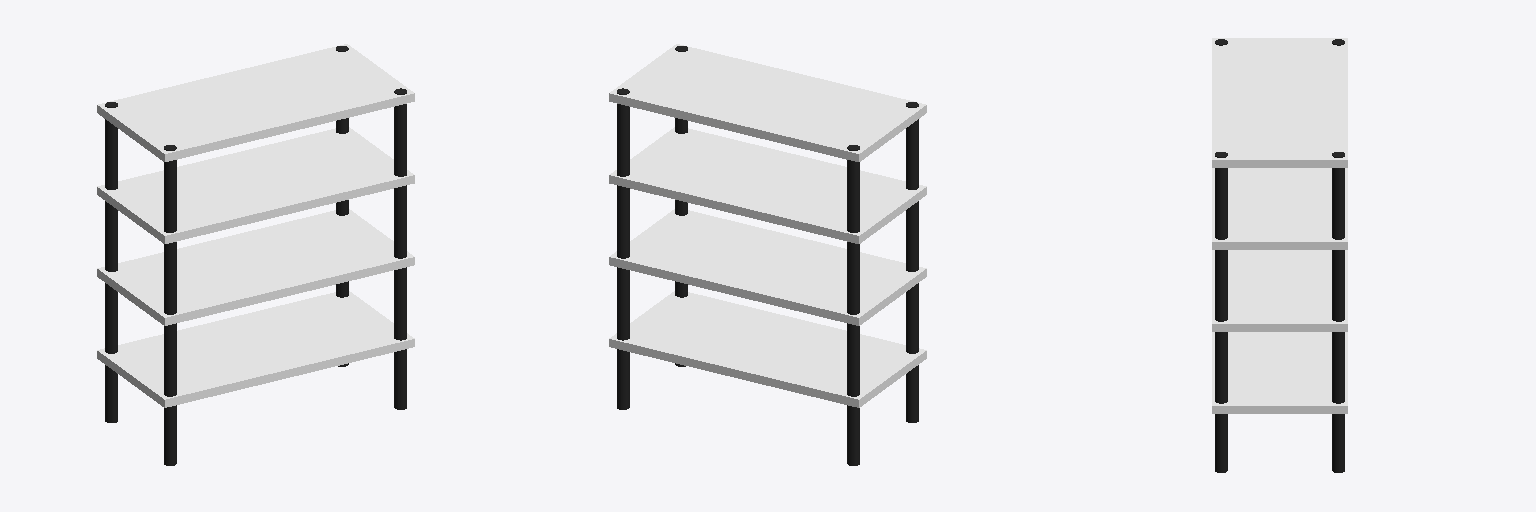
Rendered from shelf.obj.
The picture shows the model from 3 angles: view 1: azimuth 30°, elevation 25°; view 2: azimuth 150°, elevation 25°; view 3: azimuth 270°, elevation 25°; orthographic projection.
Visible parts, largest first — view 1: Shelf_Cube.003; view 2: Shelf_Cube.003; view 3: Shelf_Cube.003.
Part boxes in pixels (x1,y1,x2,y2): Shelf_Cube.003: (97,44,414,465); Shelf_Cube.003: (609,44,926,465); Shelf_Cube.003: (1212,38,1347,472).
Size of the model in its own units: 1.38 by 1.67 by 0.6467.